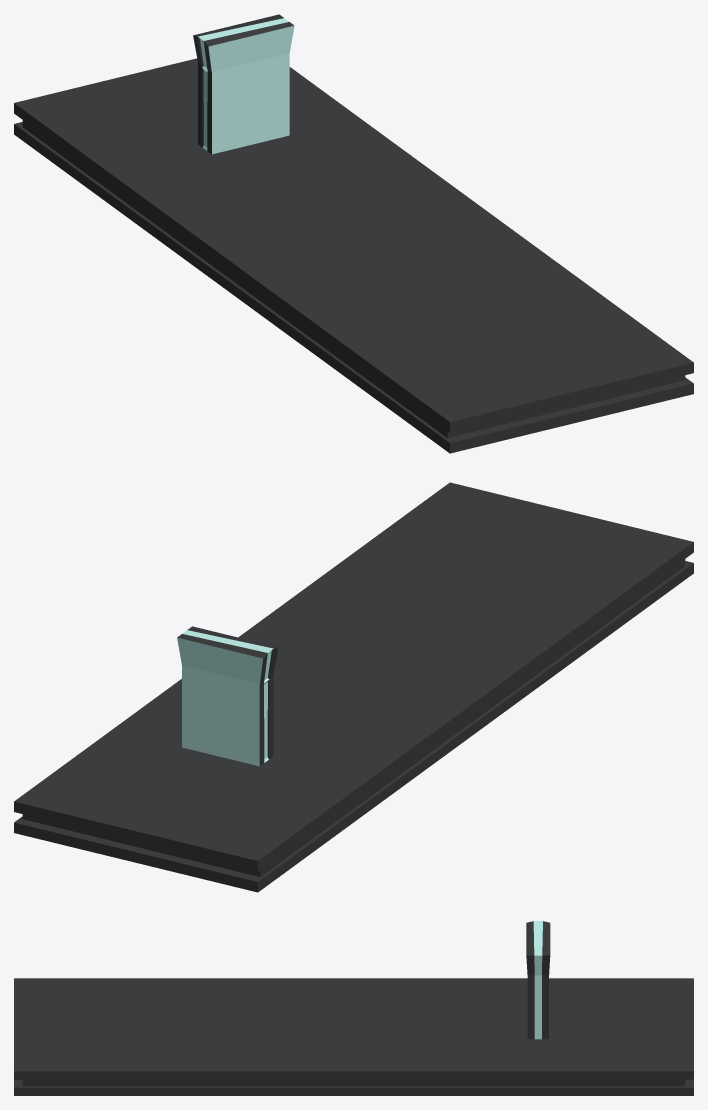
The model's file is ConsoleTable.fbx.
The picture shows the model from 3 angles, top to bottom: view 1: azimuth 30°, elevation 25°; view 2: azimuth 150°, elevation 25°; view 3: azimuth 270°, elevation 25°; orthographic projection. The views are drawn at different scales.
Parts seen in each view (by area): view 1: Cube; view 2: Cube; view 3: Cube.
Part boxes in pixels (x1,y1,x2,y2): Cube: (14,14,693,453); Cube: (14,482,693,892); Cube: (14,921,693,1095).
Size of the model in its own units: 134 by 77.29 by 414.
